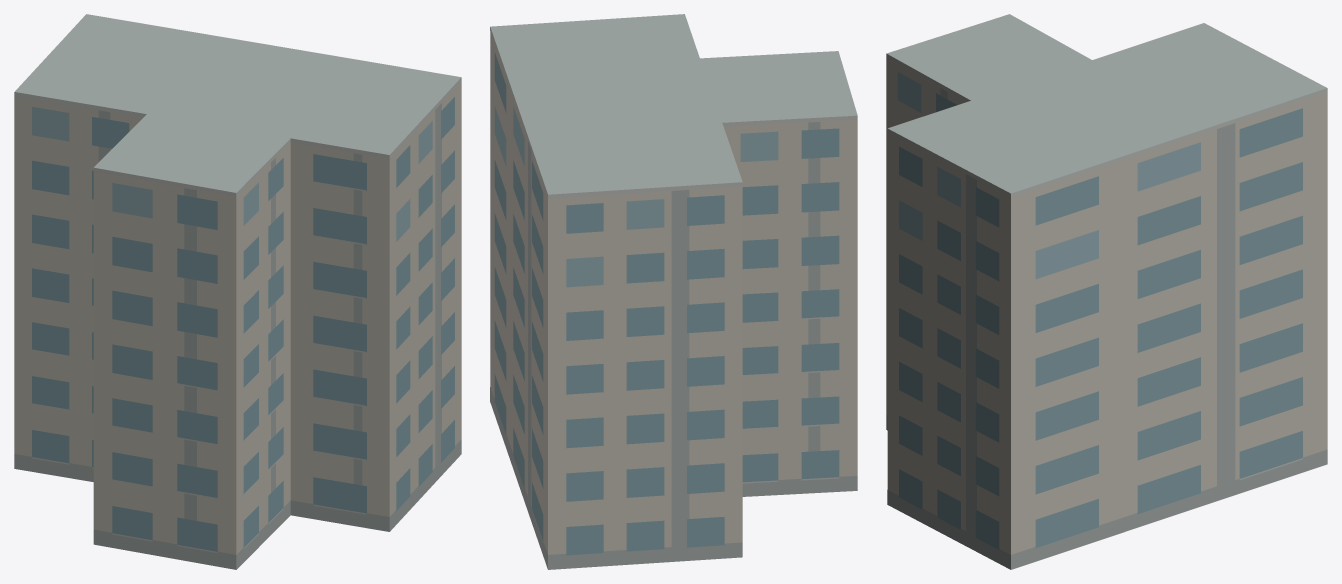
The model's file is residential-b5e0ae3e-9008-42d7-bca4-837c9ae42683.glb.
3 renders of one model, left to right at view 1: azimuth 30°, elevation 25°; view 2: azimuth 150°, elevation 25°; view 3: azimuth 270°, elevation 25°, orthographic.
Visible parts, largest first — view 1: residential-b5e0ae3e-9008-42d7-bca4-837c9ae42683.tmp; view 2: residential-b5e0ae3e-9008-42d7-bca4-837c9ae42683.tmp; view 3: residential-b5e0ae3e-9008-42d7-bca4-837c9ae42683.tmp.
Part boxes in pixels (left/top/right/bottom): residential-b5e0ae3e-9008-42d7-bca4-837c9ae42683.tmp: left=14, top=14, right=461, bottom=569; residential-b5e0ae3e-9008-42d7-bca4-837c9ae42683.tmp: left=490, top=14, right=857, bottom=569; residential-b5e0ae3e-9008-42d7-bca4-837c9ae42683.tmp: left=886, top=14, right=1327, bottom=569.
Bounding box in the file's own units: 21.85 × 21.35 × 22.69.
